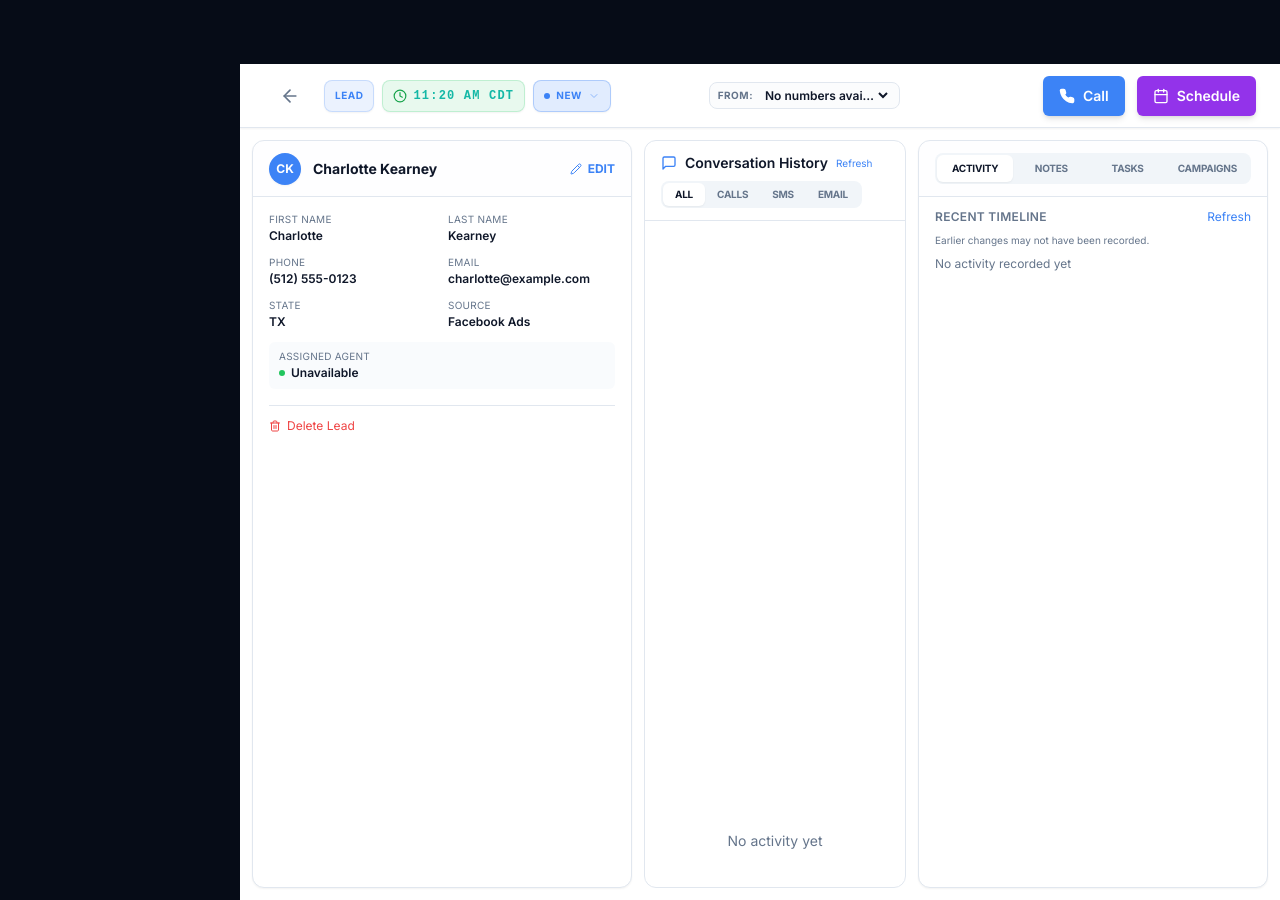
Test case: deep link — lead: the agency's duplicate settings are enforced › manual_action = warn + Cancel → zero UPDATEs, still editing, no success, no activity
Expected: the button "Call" is shown, 1043,76 -> 1125,116
Click the button "EDIT" at (592, 168), box 570,160 -> 615,176
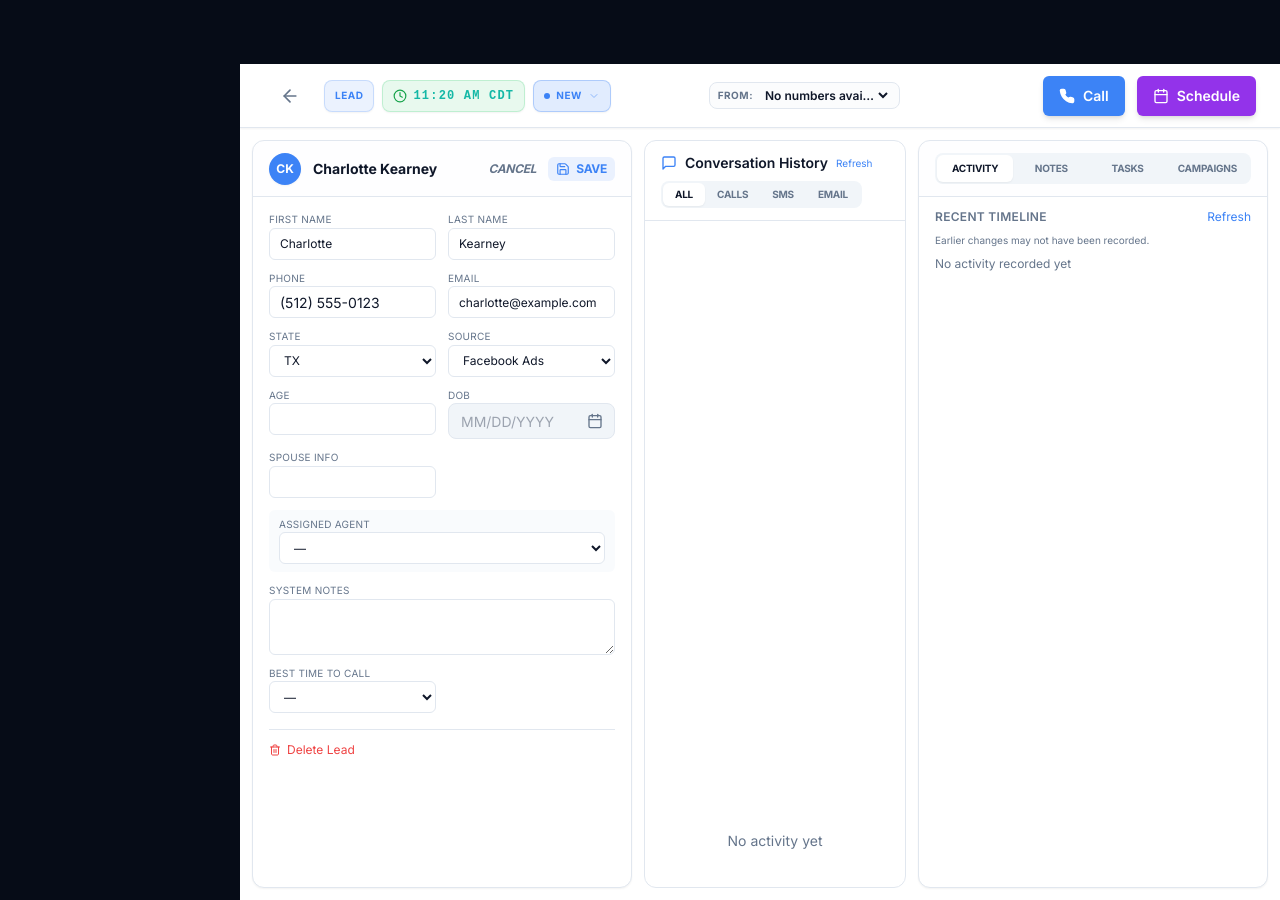
Replace the text in the field showing "(512) 555-0123" with "5125559999" at (352, 302), box 269,286 -> 436,318
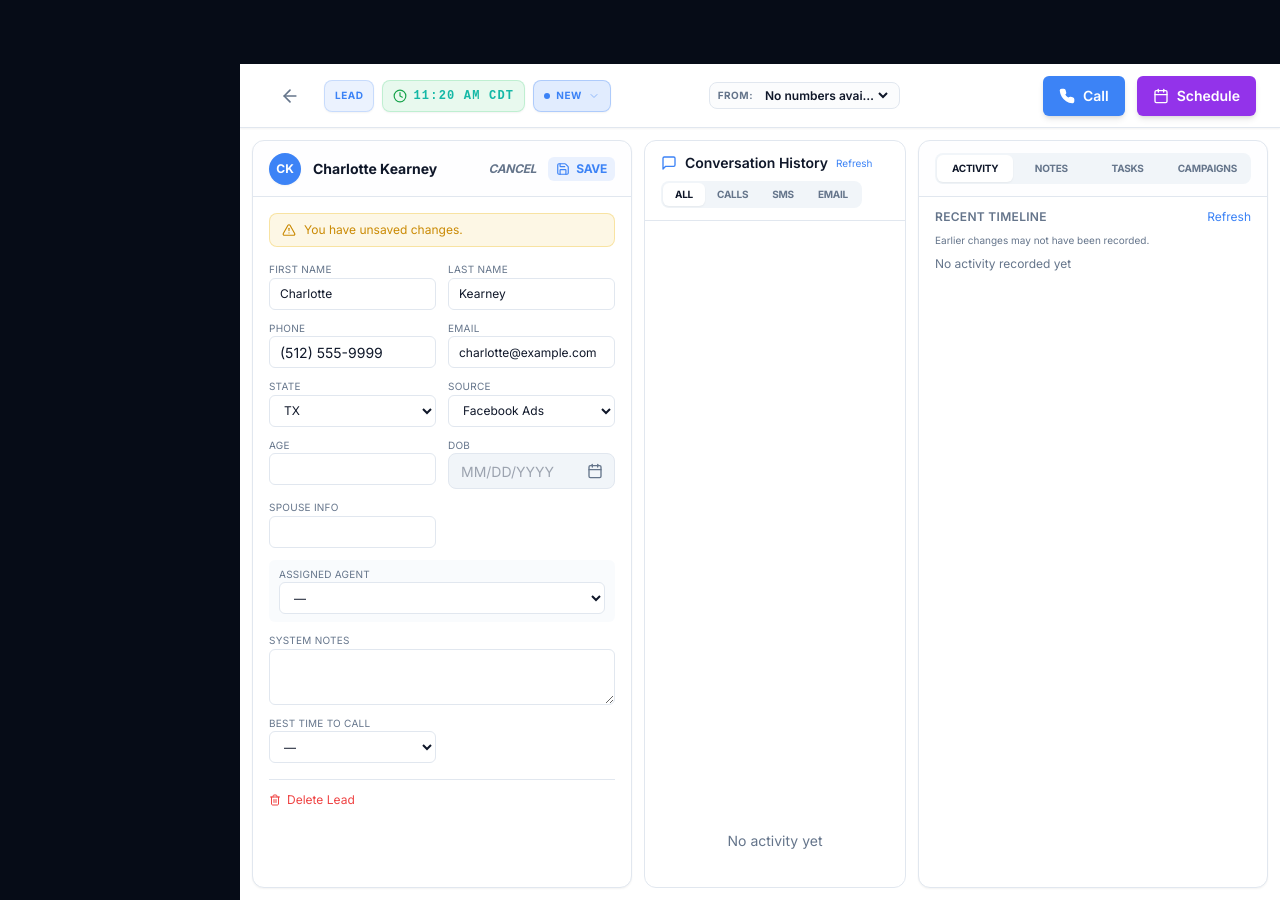
Click the button "SAVE" at (582, 168), box 548,156 -> 615,180
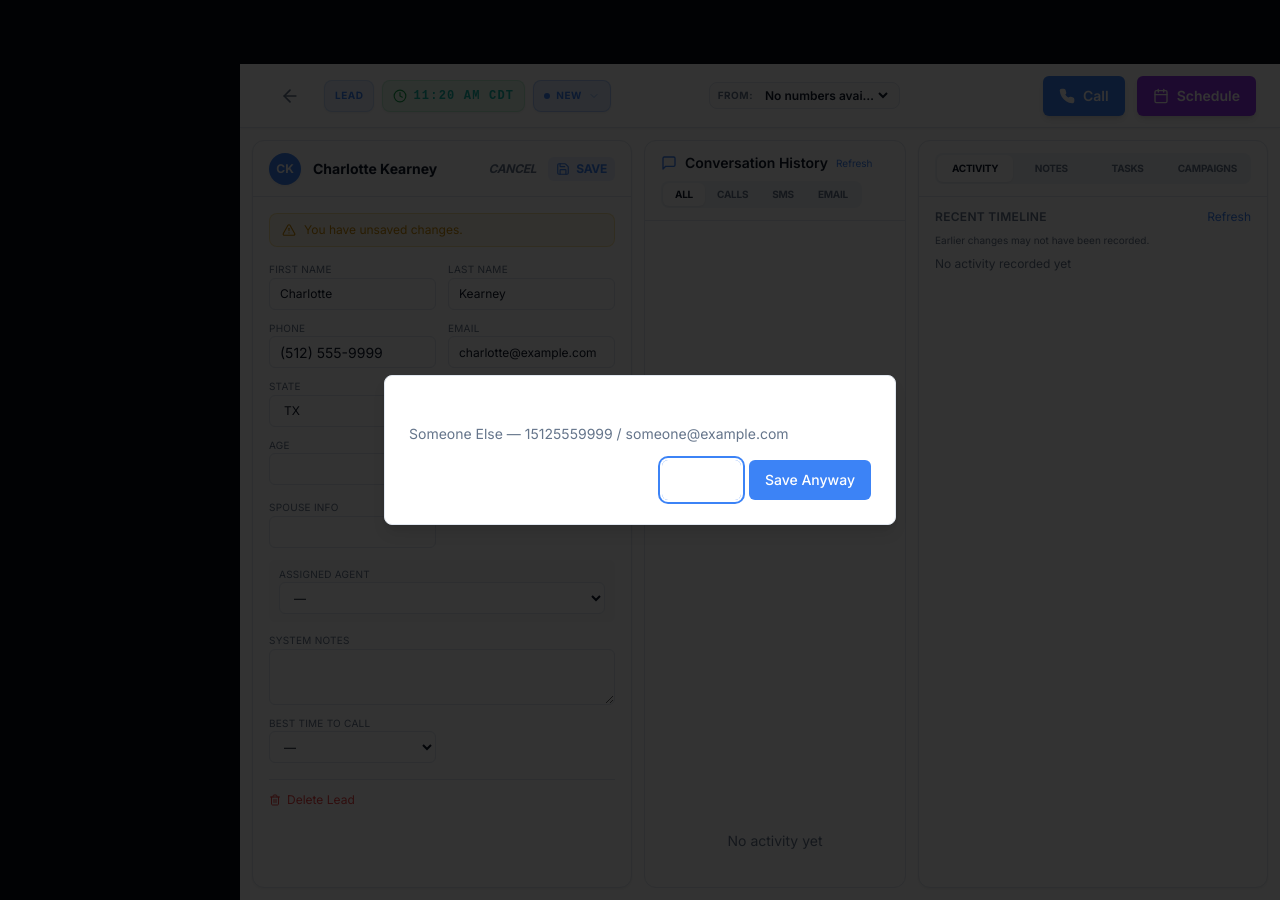
Click the button "Cancel" at (702, 480), box 662,460 -> 741,500
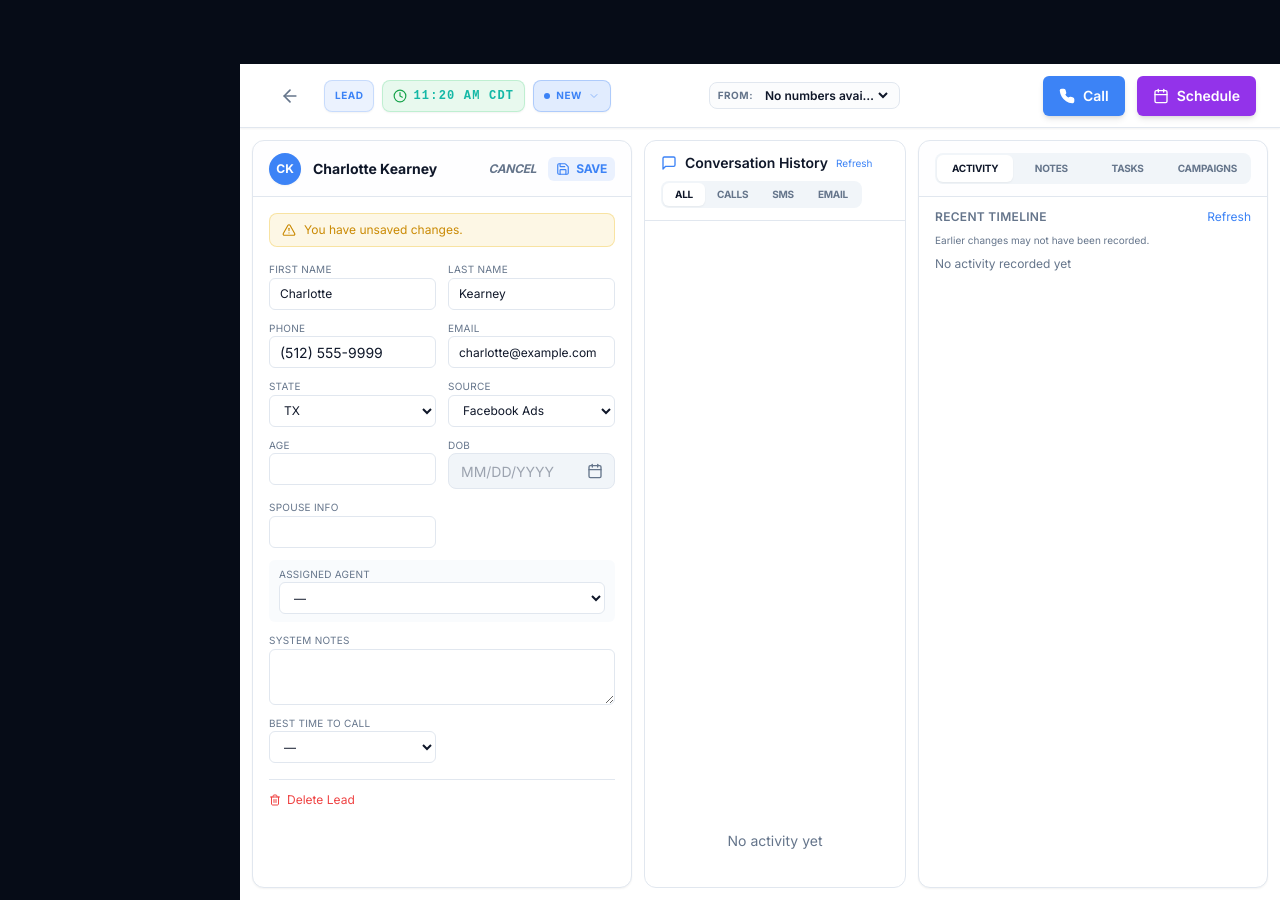
Expected: the field showing "(512) 555-9999" is shown, 269,336 -> 436,368
Expected: the dialog is gone
